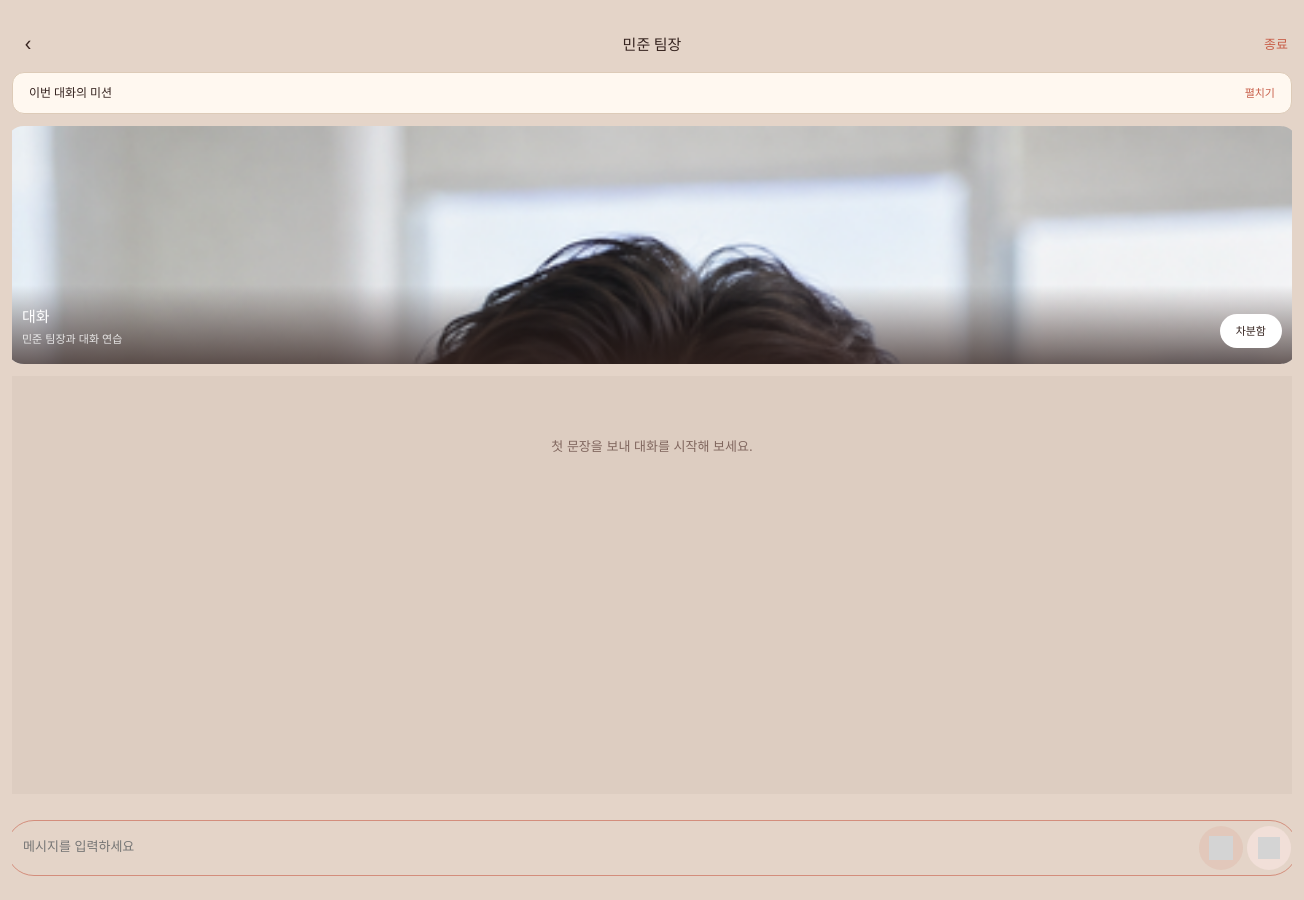
지원하는 녹음 형식이 없으면 스트림을 닫고 안내한다
Click the button named "음성 입력 시작": (1221, 848) x1=1199 y1=826 x2=1243 y2=870
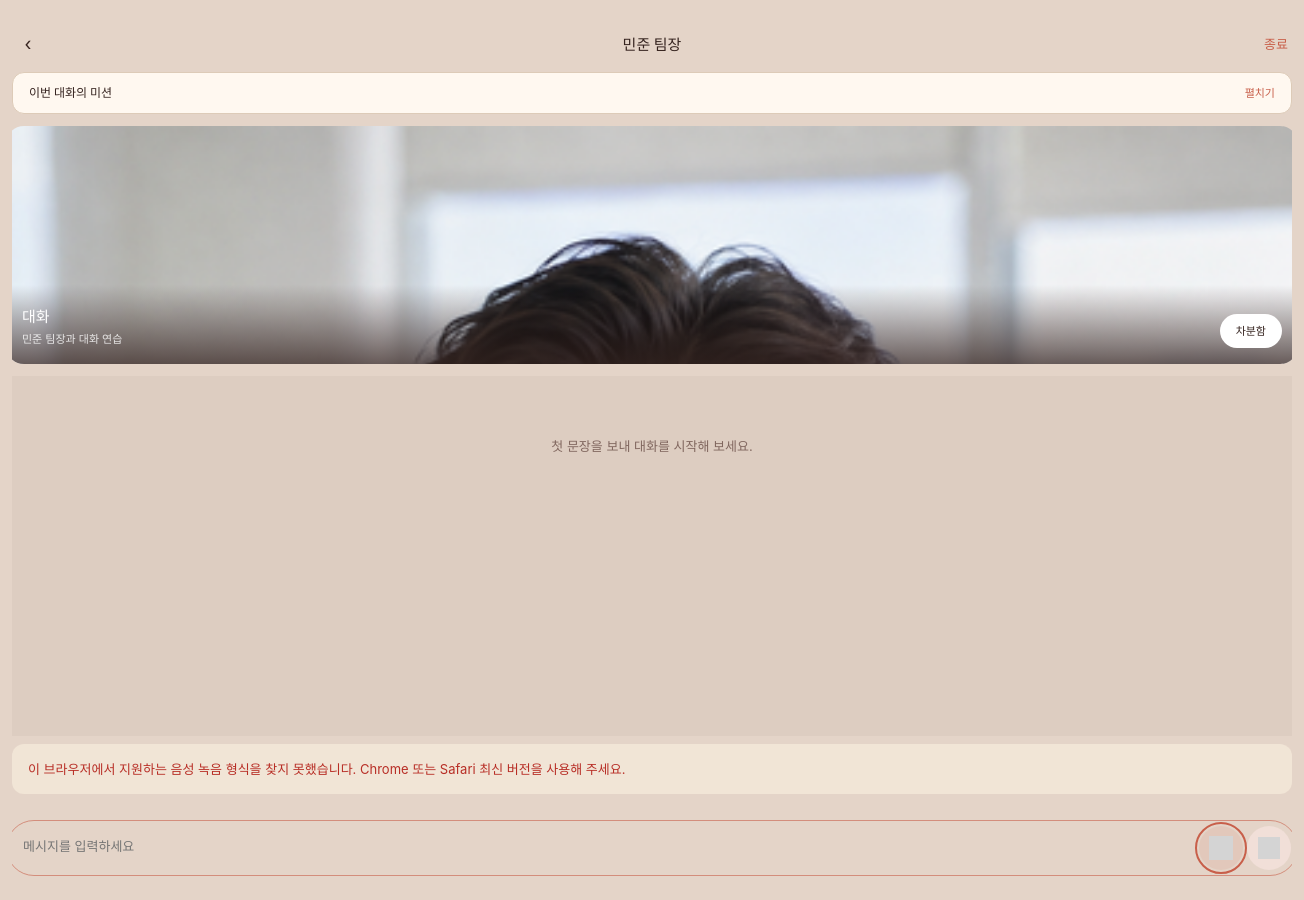
Expected: the message shows "지원하는 음성 녹음 형식을 찾지 못했습니다", x1=28 y1=761 x2=626 y2=777
